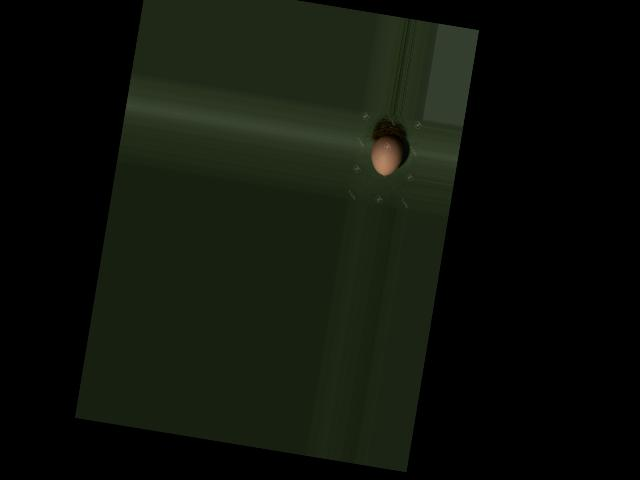egg: (368, 133, 405, 178)
